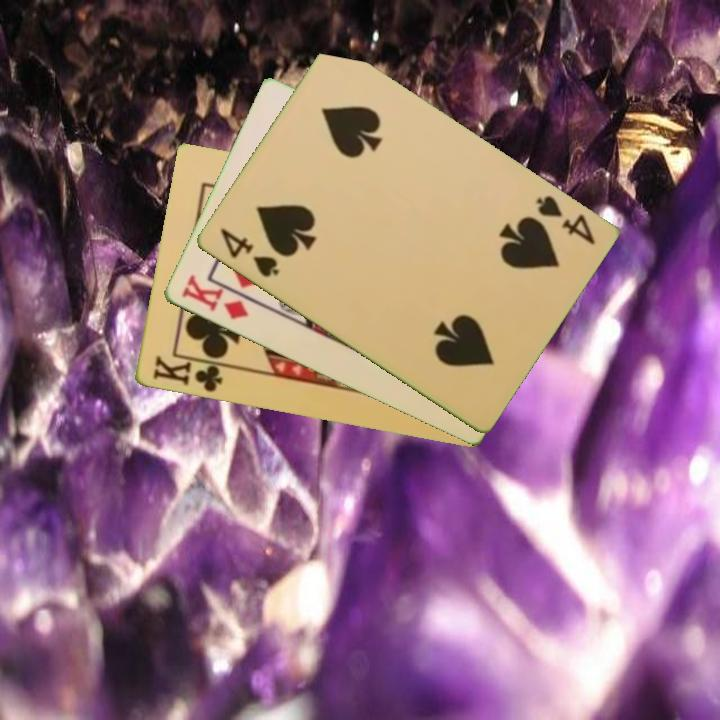4s: (215, 224, 282, 281), (532, 191, 598, 248)
Kc: (149, 352, 231, 396)
Kd: (177, 271, 251, 323)
